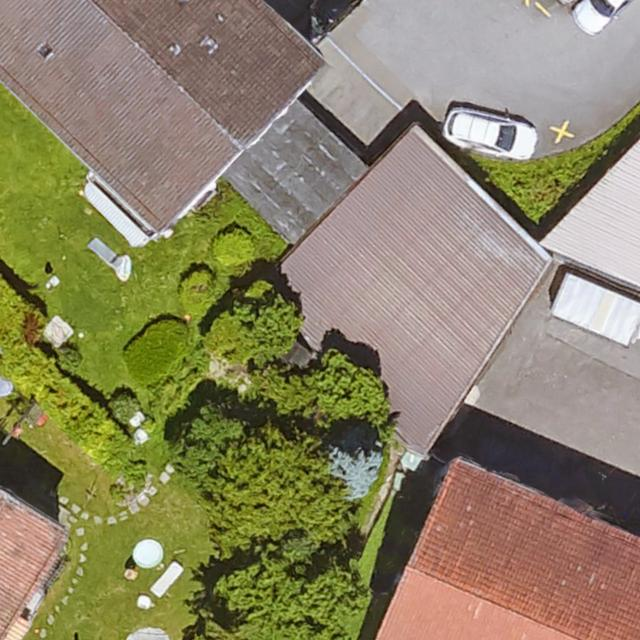tree: (189, 423, 351, 559), (195, 553, 368, 640), (213, 284, 302, 366), (271, 362, 384, 420)
